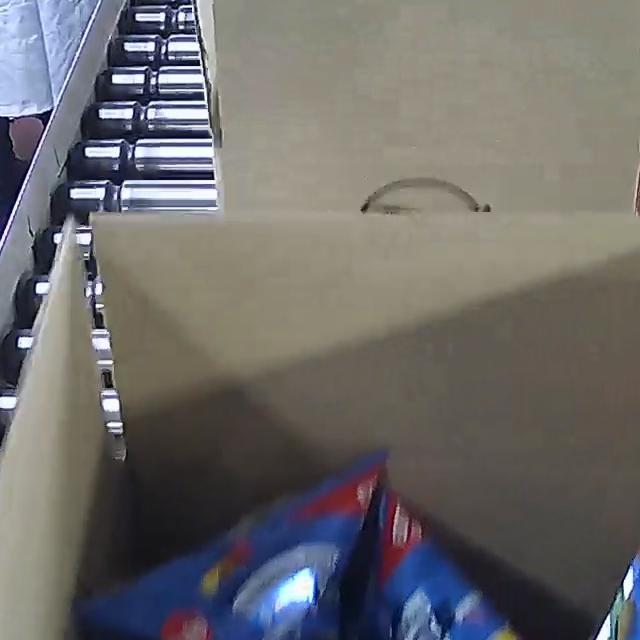paprika: (69, 451, 640, 640)
